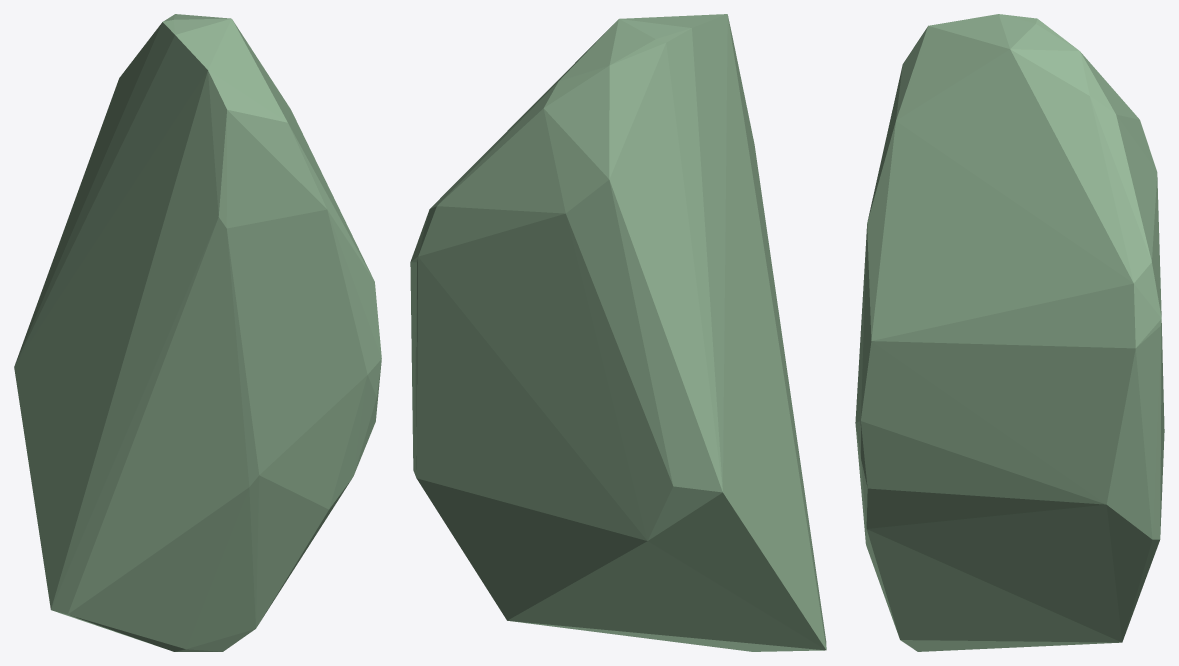
The model's file is ppe_eyeProtection_goggles_a01.glb.
3 renders of one model, left to right at view 1: azimuth 30°, elevation 25°; view 2: azimuth 150°, elevation 25°; view 3: azimuth 270°, elevation 25°, orthographic. The views are drawn at different scales.
Parts seen in each view (by area): view 1: geometry_0; view 2: geometry_0; view 3: geometry_0.
Boxes of the visible parts, bbox=[...] form: geometry_0: bbox=[14, 14, 381, 651]; geometry_0: bbox=[410, 14, 826, 651]; geometry_0: bbox=[855, 14, 1164, 651].
Size of the model in its own units: 0.2642 by 0.4612 by 0.2042.
